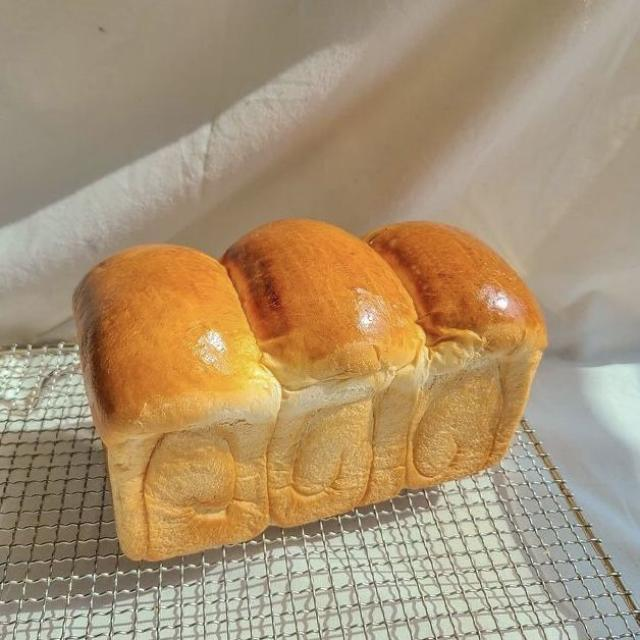bread: (74, 221, 545, 559), (74, 245, 280, 559), (223, 221, 423, 525), (365, 222, 546, 488)
